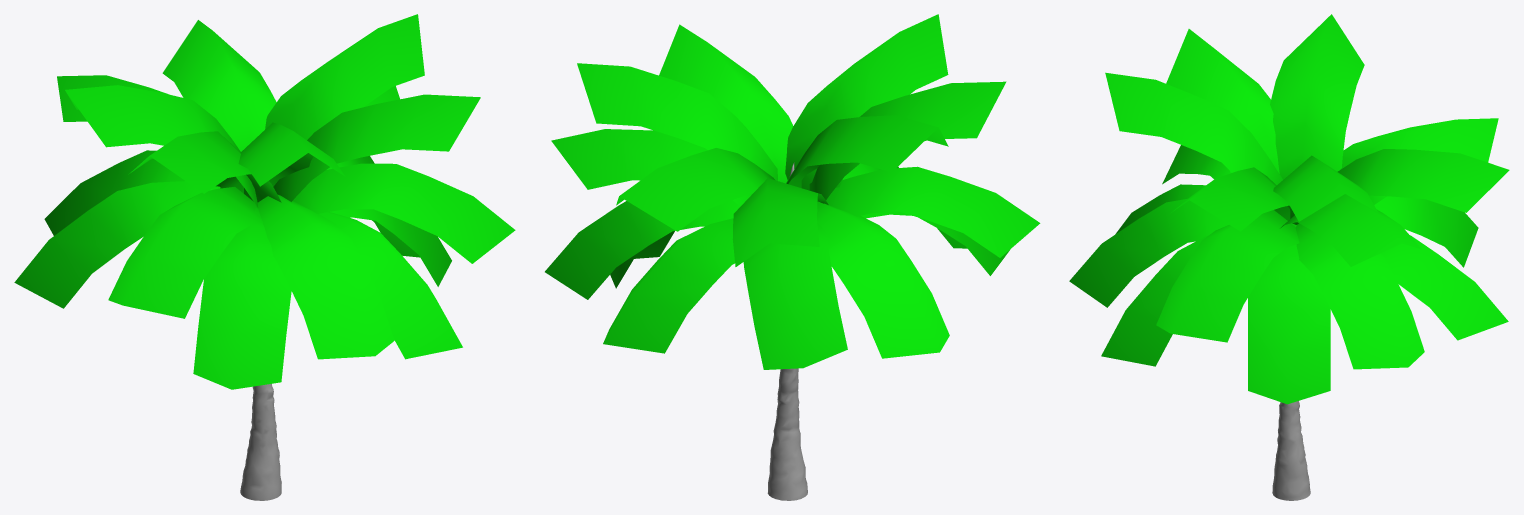
The model's file is Palm_Tree.fbx.
3 views of the same model, side by side, from view 1: azimuth 30°, elevation 25°; view 2: azimuth 150°, elevation 25°; view 3: azimuth 270°, elevation 25° (orthographic). The views are drawn at different scales.
Parts seen in each view (by area): view 1: polySurface12; view 2: polySurface12; view 3: polySurface12.
Part boxes in pixels (x1=…): polySurface12: x1=14, y1=14, x2=515, y2=500; polySurface12: x1=545, y1=14, x2=1040, y2=500; polySurface12: x1=1069, y1=14, x2=1509, y2=500.
Size of the model in its own units: 2349 by 2470 by 2470.
